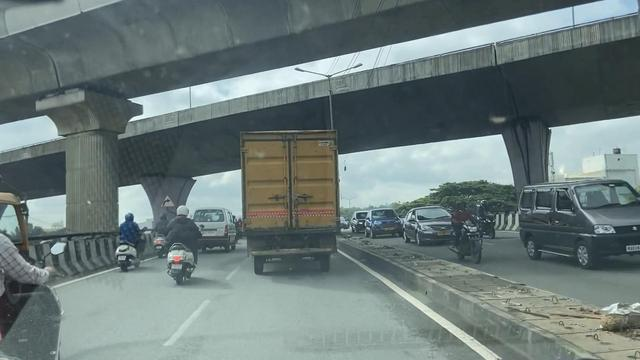HMV: (239, 120, 341, 277)
LMV: (166, 204, 196, 282), (113, 213, 140, 269)
